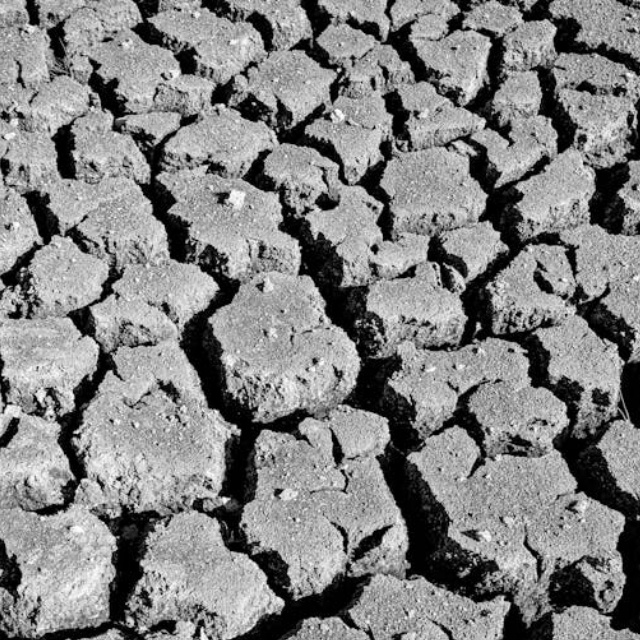深大裂缝: (482, 69, 640, 640)
细微裂纹: (337, 0, 640, 598)
